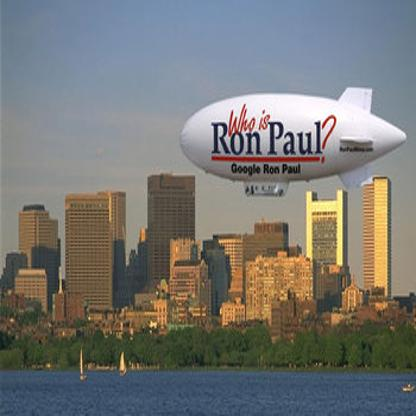Airship: (174, 83, 409, 201)
